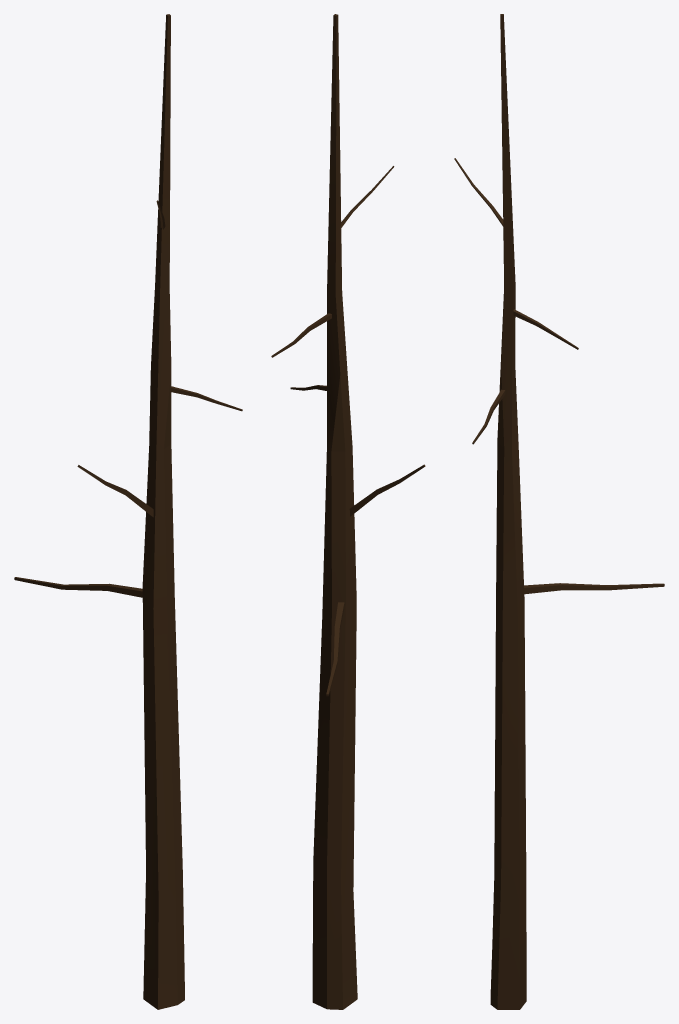
File: Tree_02.FBX
3 renders of one model, left to right at view 1: azimuth 30°, elevation 25°; view 2: azimuth 150°, elevation 25°; view 3: azimuth 270°, elevation 25°, orthographic.
Parts seen in each view (by area): view 1: Tree_02; view 2: Tree_02; view 3: Tree_02.
Part boxes in pixels (left/top/right/bottom): Tree_02: left=14, top=14, right=242, bottom=1009; Tree_02: left=271, top=14, right=425, bottom=1009; Tree_02: left=454, top=14, right=664, bottom=1009.
Size of the model in its own units: 25.85 by 163 by 31.41.
